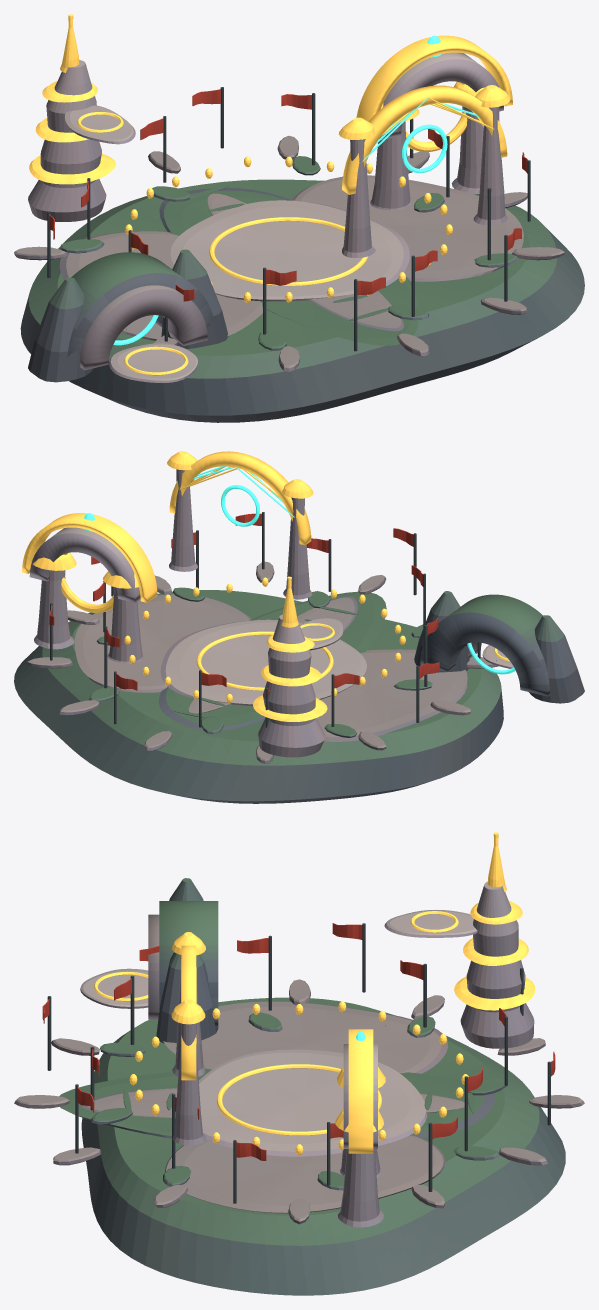
The model's file is festival-hub-high.glb.
The picture shows the model from 3 angles, top to bottom: view 1: azimuth 30°, elevation 25°; view 2: azimuth 150°, elevation 25°; view 3: azimuth 270°, elevation 25°; orthographic projection. The views are drawn at different scales.
Visible parts, largest first — view 1: FestivalAirfield, LandingPad, FestivalAccents, SecretGrotto, RaceArch, FestivalFlags, FestivalTower, WindLoom, FestivalLanterns; view 2: FestivalAirfield, FestivalAccents, SecretGrotto, LandingPad, RaceArch, FestivalTower, FestivalFlags, WindLoom, FestivalLanterns; view 3: FestivalAirfield, LandingPad, FestivalAccents, SecretGrotto, FestivalFlags, FestivalTower, RaceArch, WindLoom, FestivalLanterns.
Boxes of the visible parts, x1,y1,x2,y2 form: FestivalAirfield: (14, 136, 584, 422); LandingPad: (65, 105, 409, 382); FestivalAccents: (29, 14, 512, 375); SecretGrotto: (28, 249, 228, 382); RaceArch: (370, 52, 503, 210); FestivalFlags: (47, 87, 530, 351); FestivalTower: (28, 60, 155, 221); WindLoom: (342, 107, 507, 257); FestivalLanterns: (125, 156, 452, 302); FestivalAirfield: (14, 561, 503, 803); FestivalAccents: (22, 451, 515, 721); SecretGrotto: (414, 591, 584, 703); LandingPad: (160, 618, 513, 705); RaceArch: (29, 527, 143, 663); FestivalTower: (258, 614, 325, 757); FestivalFlags: (49, 512, 480, 727); WindLoom: (169, 469, 312, 599); FestivalLanterns: (124, 577, 405, 702); FestivalAirfield: (14, 979, 584, 1295); LandingPad: (80, 909, 477, 1156); FestivalAccents: (94, 832, 535, 1153); SecretGrotto: (148, 878, 218, 1043); FestivalFlags: (42, 923, 555, 1203); FestivalTower: (385, 882, 534, 1048); RaceArch: (338, 1044, 383, 1227); WindLoom: (172, 955, 205, 1145); FestivalLanterns: (129, 1001, 468, 1155).
Size of the model in its own units: 113 by 58 by 92.9.
